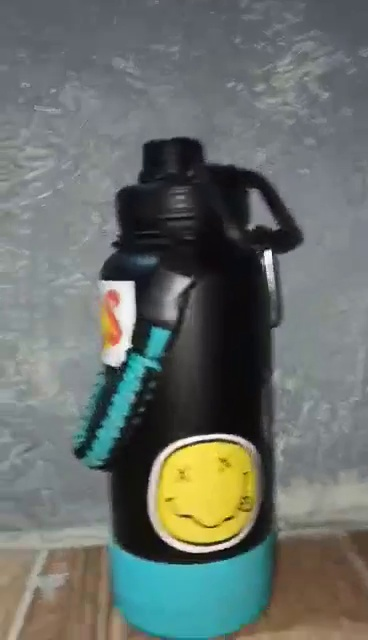tumbler: (73, 142, 302, 637)
